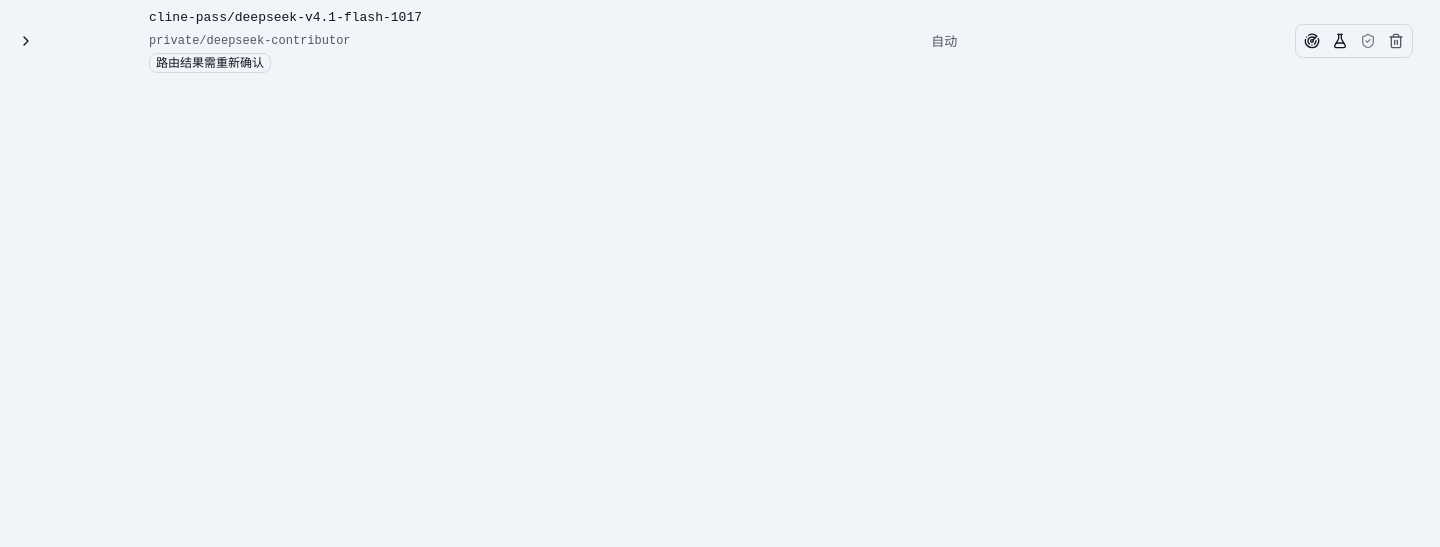
Test: stale discoveries cannot be adopted
Click the button named "展开模型" at {"x": 26, "y": 40}, box [12,26,40,54]
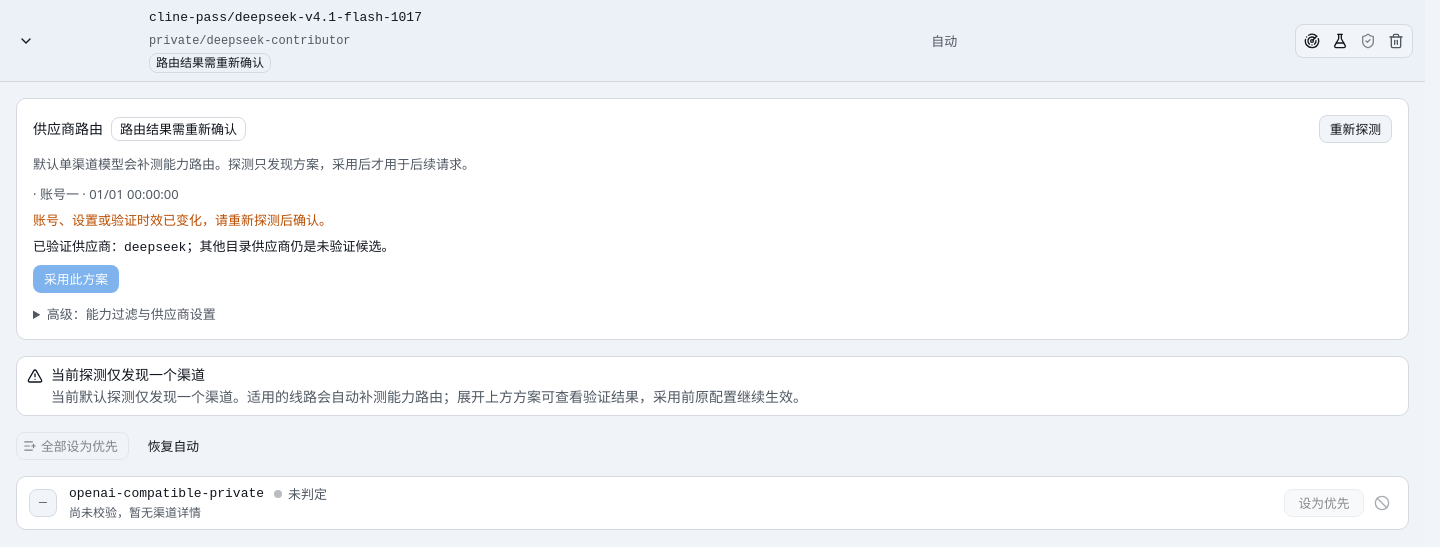
Expected: the button "采用此方案" is disabled, [33,265,119,293]
Expected: the text "账号、设置或验证时效已变化，请重新探测后确认。" is shown, [33,211,332,229]
